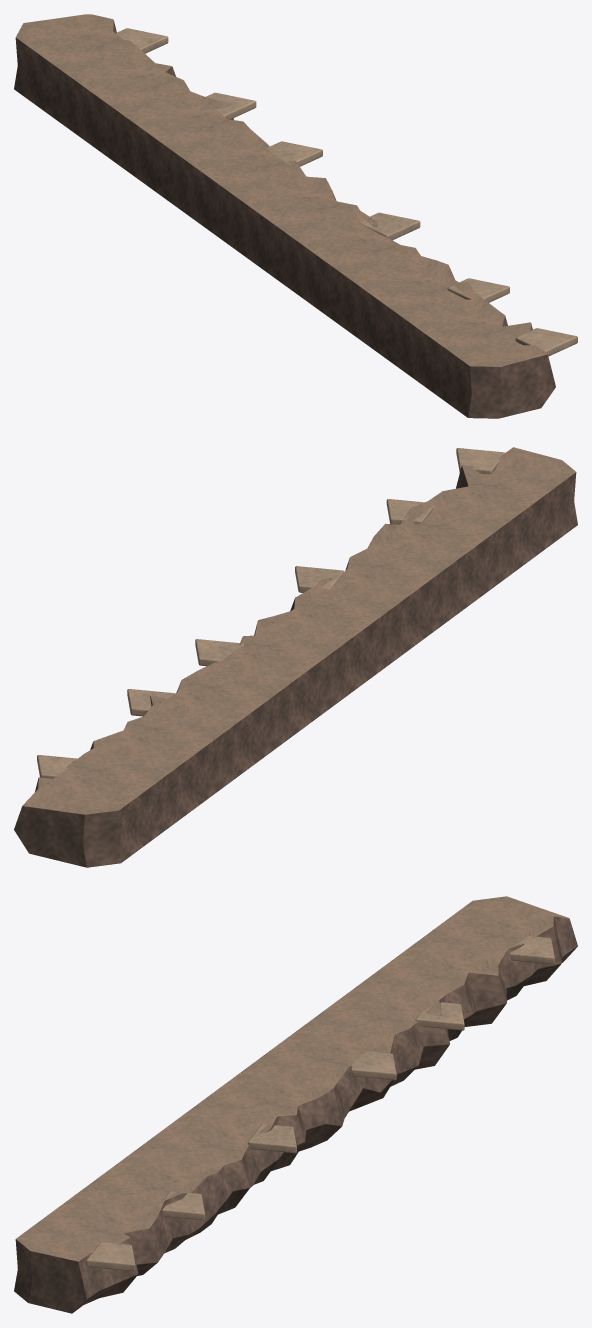
File: PadCrackEdgeStrip.glb
The picture shows the model from 3 angles, top to bottom: view 1: azimuth 30°, elevation 25°; view 2: azimuth 150°, elevation 25°; view 3: azimuth 330°, elevation 25°; orthographic projection. The views are drawn at different scales.
Visible parts, largest first — view 1: Exposed_step_edge_warm_panel, Broken_surface_flake_white_painted.005, Broken_surface_flake_white_painted.003, Broken_surface_flake_white_painted.002, Broken_surface_flake_white_painted.004, Broken_surface_flake_white_painted, Broken_surface_flake_white_painted.001; view 2: Exposed_step_edge_warm_panel, Broken_surface_flake_white_painted.005, Broken_surface_flake_white_painted.002, Broken_surface_flake_white_painted.003, Broken_surface_flake_white_painted.001, Broken_surface_flake_white_painted.004, Broken_surface_flake_white_painted; view 3: Exposed_step_edge_warm_panel, Broken_surface_flake_white_painted.005, Broken_surface_flake_white_painted.003, Broken_surface_flake_white_painted.002, Broken_surface_flake_white_painted, Broken_surface_flake_white_painted.001, Broken_surface_flake_white_painted.004.
Part boxes in pixels (x1,y1,x2,y2): Exposed_step_edge_warm_panel: [14, 14, 555, 418]; Broken_surface_flake_white_painted.005: [515, 328, 577, 356]; Broken_surface_flake_white_painted.003: [358, 212, 420, 240]; Broken_surface_flake_white_painted.002: [266, 141, 322, 166]; Broken_surface_flake_white_painted.004: [447, 278, 509, 302]; Broken_surface_flake_white_painted: [116, 28, 168, 53]; Broken_surface_flake_white_painted.001: [206, 92, 256, 119]; Exposed_step_edge_warm_panel: [14, 447, 577, 867]; Broken_surface_flake_white_painted.005: [456, 448, 504, 474]; Broken_surface_flake_white_painted.002: [195, 639, 244, 666]; Broken_surface_flake_white_painted.003: [295, 566, 343, 592]; Broken_surface_flake_white_painted.001: [127, 689, 175, 716]; Broken_surface_flake_white_painted.004: [386, 499, 433, 524]; Broken_surface_flake_white_painted: [37, 755, 77, 778]; Exposed_step_edge_warm_panel: [14, 896, 577, 1313]; Broken_surface_flake_white_painted.005: [86, 1242, 135, 1271]; Broken_surface_flake_white_painted.003: [247, 1124, 296, 1153]; Broken_surface_flake_white_painted.002: [349, 1051, 396, 1080]; Broken_surface_flake_white_painted: [509, 936, 554, 964]; Broken_surface_flake_white_painted.001: [415, 1002, 464, 1030]; Broken_surface_flake_white_painted.004: [162, 1191, 205, 1220].
Bounding box in the file's own units: 0.4409 × 0.2028 × 3.05.
Materials: 3 (3 with a texture image).
